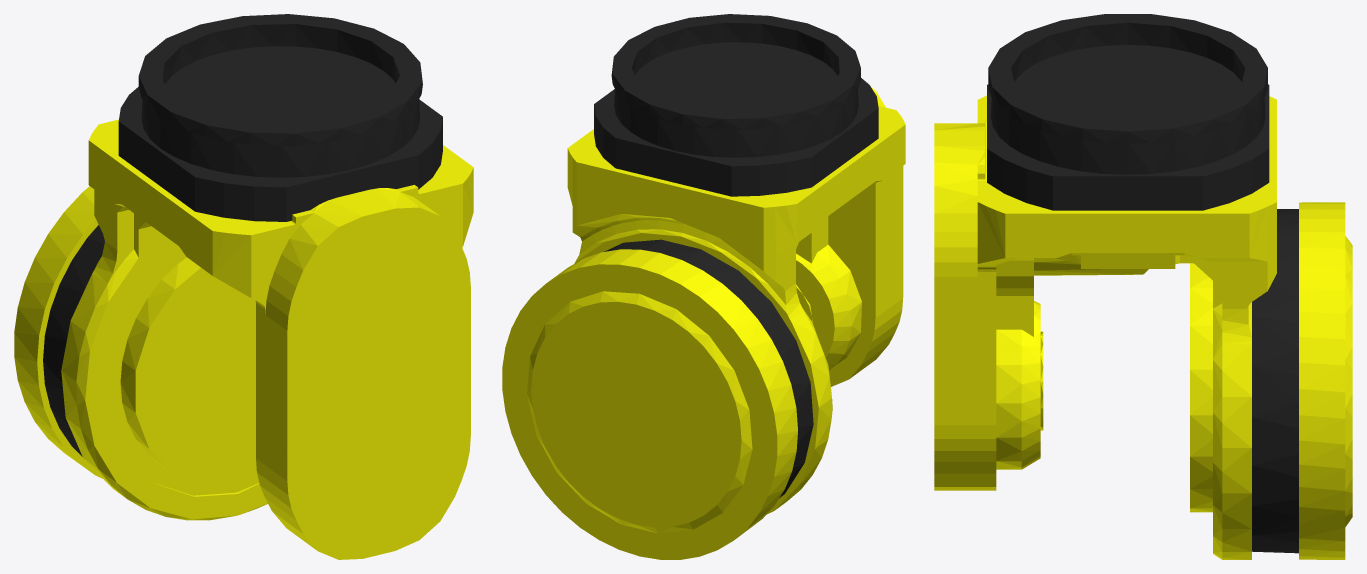
3 views of the same model, side by side, from view 1: azimuth 30°, elevation 25°; view 2: azimuth 150°, elevation 25°; view 3: azimuth 270°, elevation 25° (orthographic). The views are drawn at different scales.
Visible parts, largest first — view 1: node; view 2: node; view 3: node.
Part boxes in pixels (left/top/right/bottom): node: left=14, top=14, right=473, bottom=559; node: left=502, top=14, right=905, bottom=559; node: left=934, top=14, right=1352, bottom=559.
Size of the model in its own units: 190 by 276 by 222.
